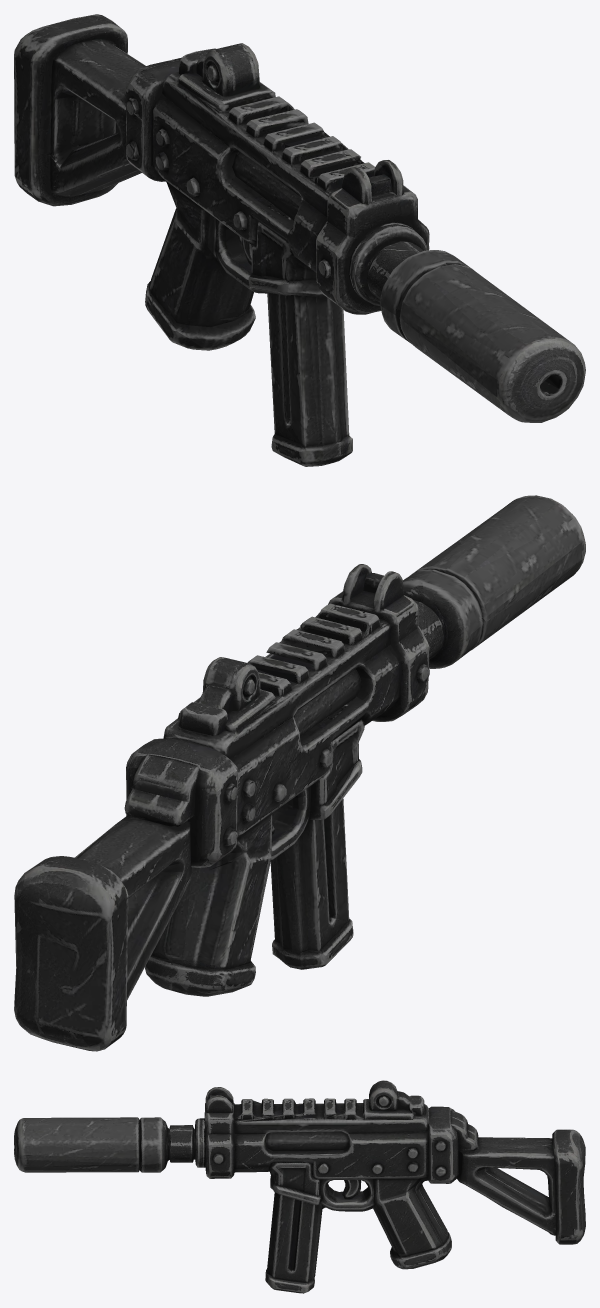
File: gun_whisper.glb
The picture shows the model from 3 angles, top to bottom: view 1: azimuth 30°, elevation 25°; view 2: azimuth 150°, elevation 25°; view 3: azimuth 270°, elevation 25°; orthographic projection. The views are drawn at different scales.
Size of the model in its own units: 0.1475 by 0.4725 by 1.2.
Materials: 1 (1 with a texture image).
